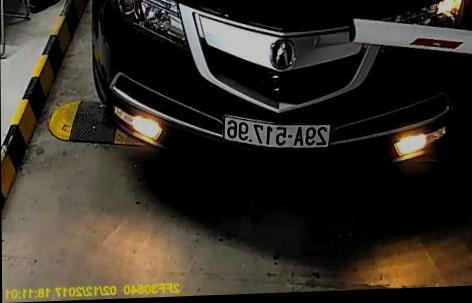License_Plate: (219, 112, 337, 156)
